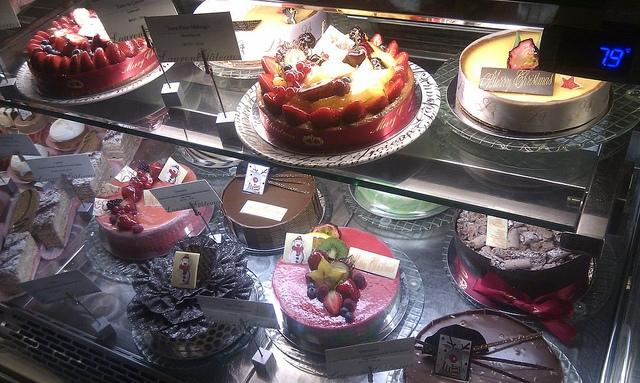blueberry: (70, 49, 83, 58), (373, 63, 388, 70), (307, 288, 317, 298), (340, 307, 349, 317), (345, 312, 354, 322), (378, 43, 388, 52), (342, 76, 352, 83), (50, 50, 61, 56), (45, 46, 53, 52), (284, 66, 291, 72), (308, 282, 314, 288), (41, 40, 48, 45), (58, 26, 62, 31), (88, 39, 92, 44), (90, 53, 94, 57), (314, 56, 320, 58)
kiwi: (306, 255, 346, 292), (316, 237, 348, 260)
strawberry: (340, 100, 368, 125), (282, 104, 310, 128), (310, 107, 340, 128), (336, 278, 361, 302), (384, 78, 404, 105), (263, 92, 286, 115), (105, 43, 127, 66), (323, 290, 342, 316), (366, 96, 390, 116), (308, 250, 330, 271), (121, 184, 142, 203), (116, 214, 140, 230), (118, 39, 138, 58), (261, 56, 280, 76), (390, 64, 409, 84), (92, 47, 110, 68), (148, 162, 166, 182), (79, 50, 94, 74), (258, 74, 275, 94), (64, 32, 88, 46), (29, 47, 43, 69), (119, 198, 137, 214), (61, 42, 80, 57), (68, 54, 81, 75), (49, 55, 63, 74), (41, 54, 54, 74), (387, 39, 399, 58), (393, 51, 409, 65), (60, 56, 72, 74), (369, 34, 384, 46), (36, 31, 52, 40), (136, 38, 146, 49), (60, 15, 71, 24), (52, 20, 62, 28), (34, 35, 46, 41), (30, 39, 42, 45), (47, 28, 58, 34), (62, 24, 72, 30)
